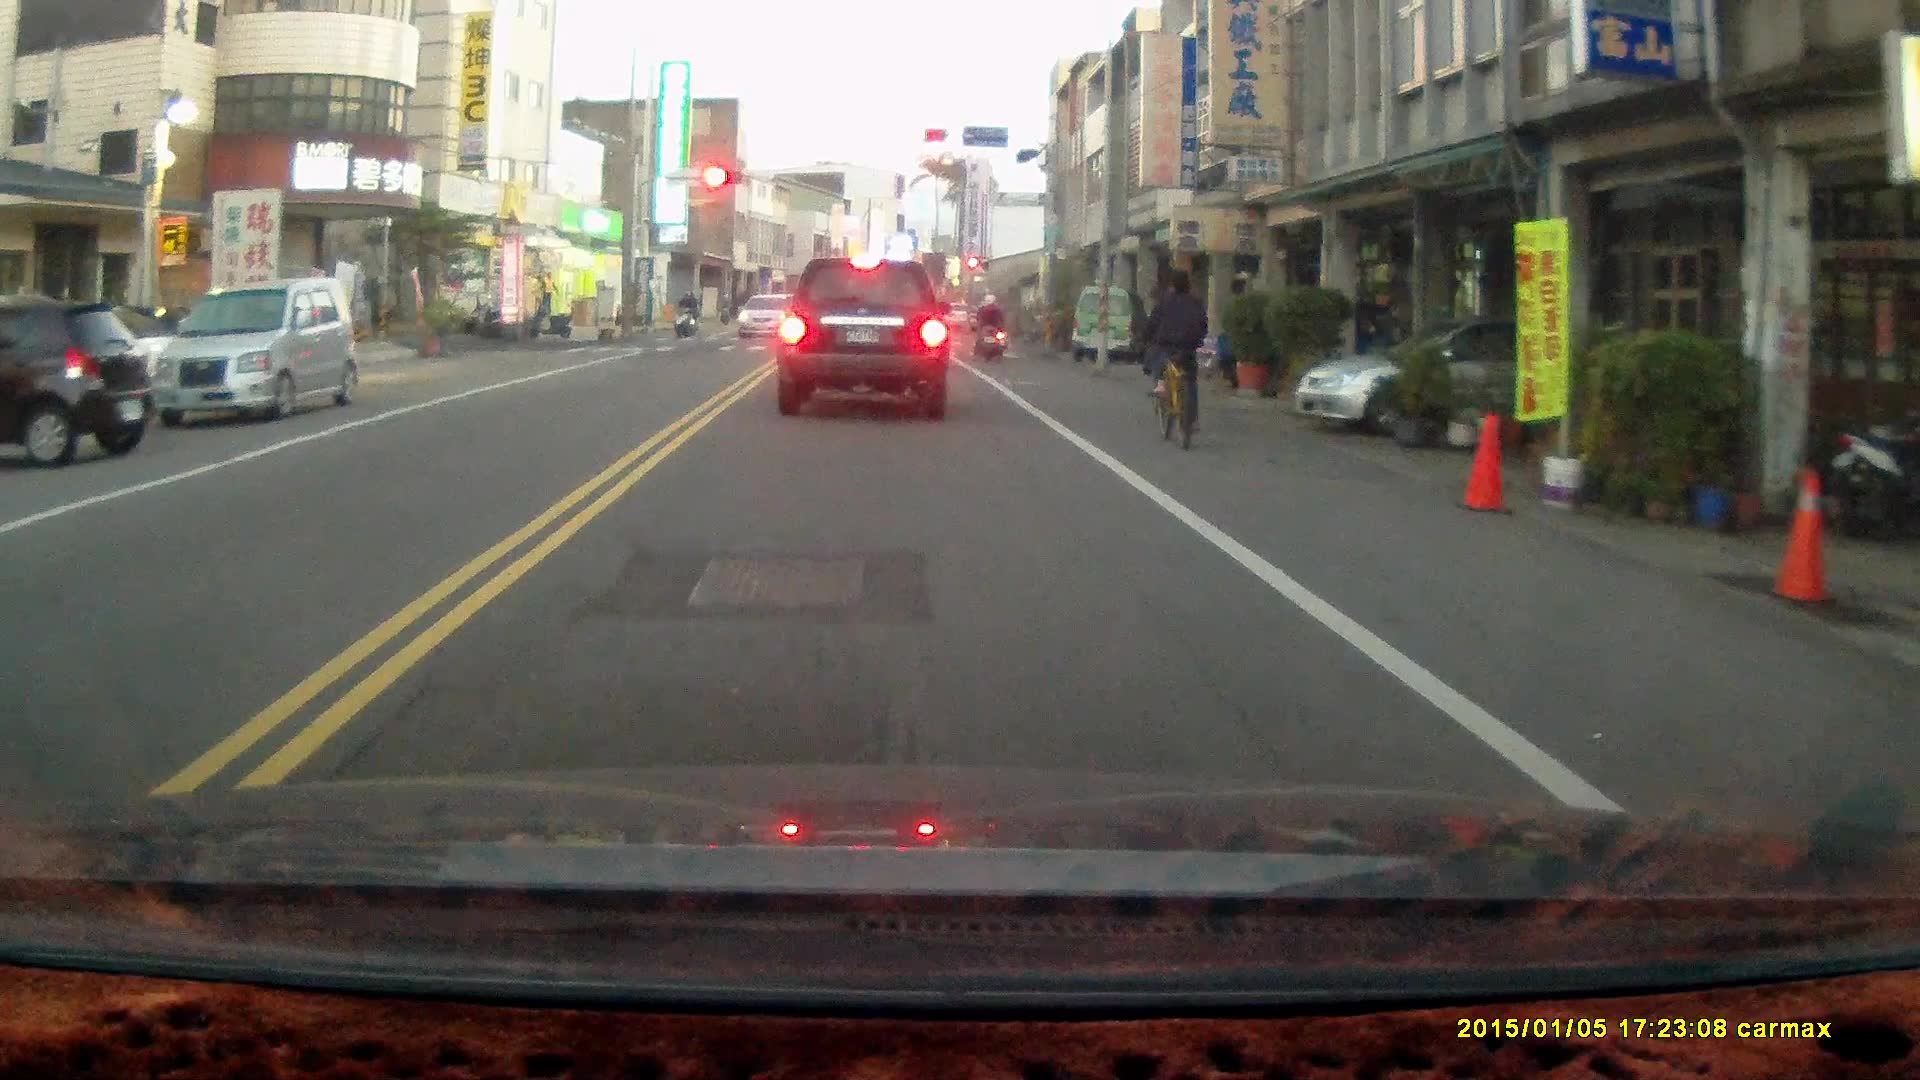pedestrian: (536, 269, 556, 316)
rider: (1141, 267, 1209, 449), (971, 289, 1008, 361), (672, 289, 698, 340)
vehicle: (1293, 315, 1649, 436), (152, 276, 359, 426), (773, 253, 952, 423), (1, 297, 156, 472), (1069, 288, 1144, 365)
